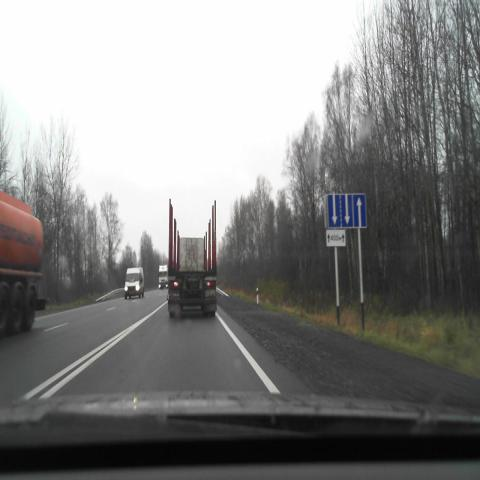5_15_7: (326, 193, 367, 227)
8_2_1: (326, 229, 346, 247)
